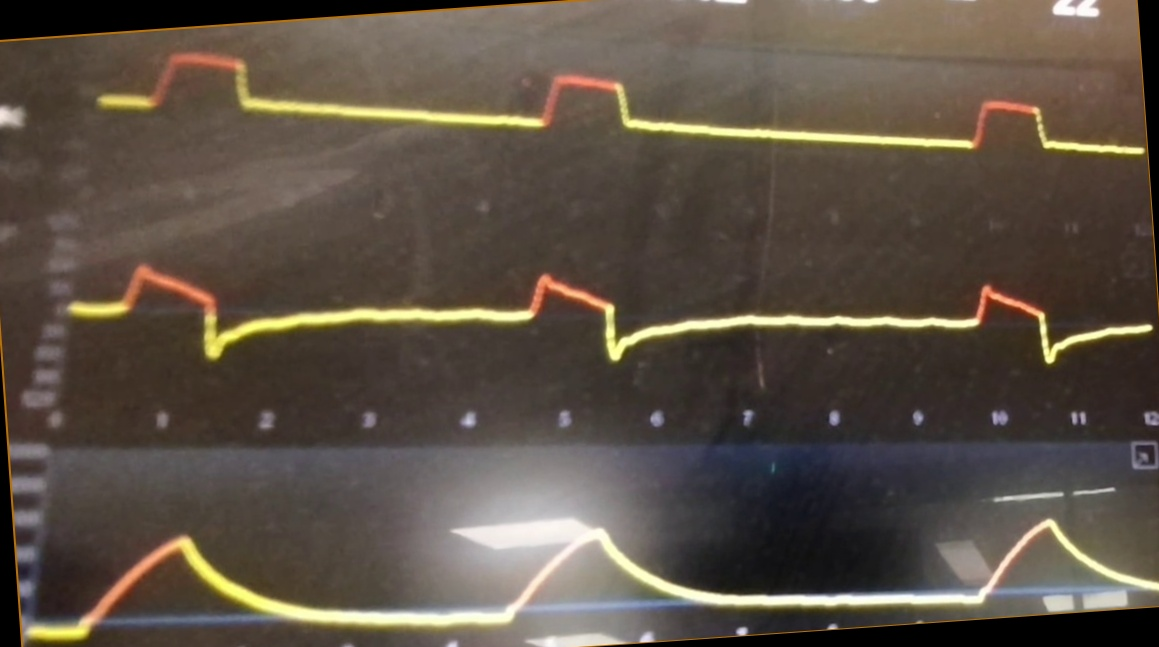Normal Flow: (72, 227, 1151, 385)
Normal Volume: (29, 504, 1158, 647)
